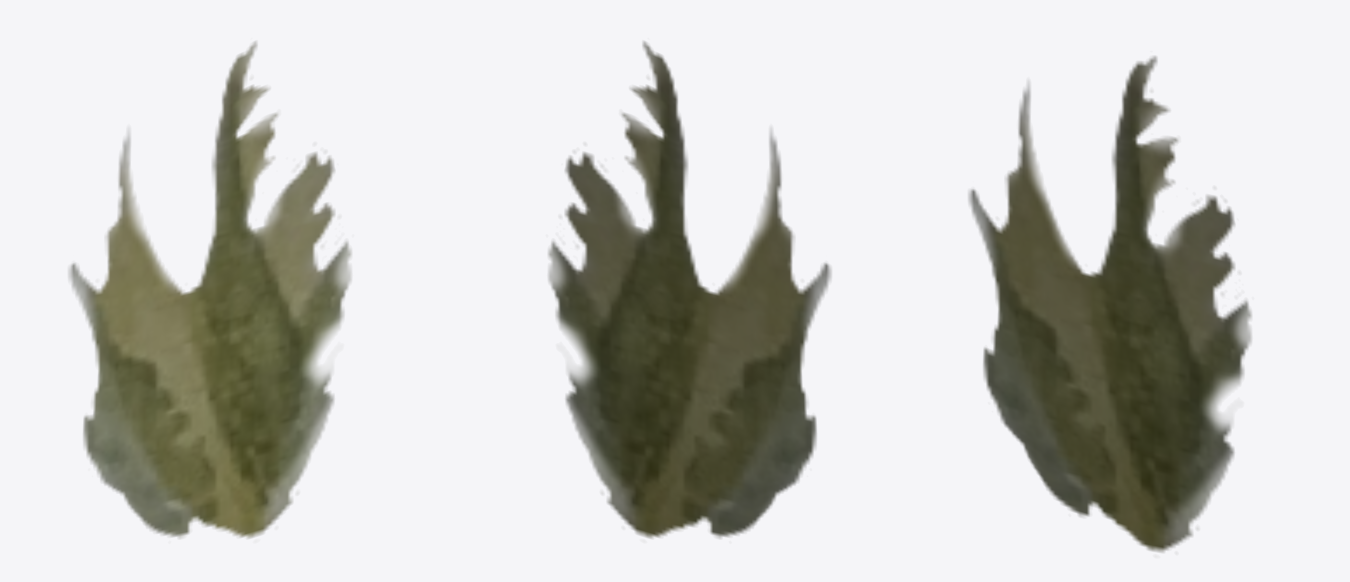
Rendered from HERBE-S.glb.
The picture shows the model from 3 angles, left to right: view 1: azimuth 30°, elevation 25°; view 2: azimuth 150°, elevation 25°; view 3: azimuth 330°, elevation 25°; orthographic projection.
Visible parts, largest first — view 1: Plane.007; view 2: Plane.007; view 3: Plane.007.
Part boxes in pixels (<box>): Plane.007: <box>68,41,351,538</box>; Plane.007: <box>548,41,831,538</box>; Plane.007: <box>968,56,1251,552</box>.
Bounding box in the file's own units: 0.8973 × 1.1 × 1.32e-08.
Materials: 1 (1 with a texture image).
